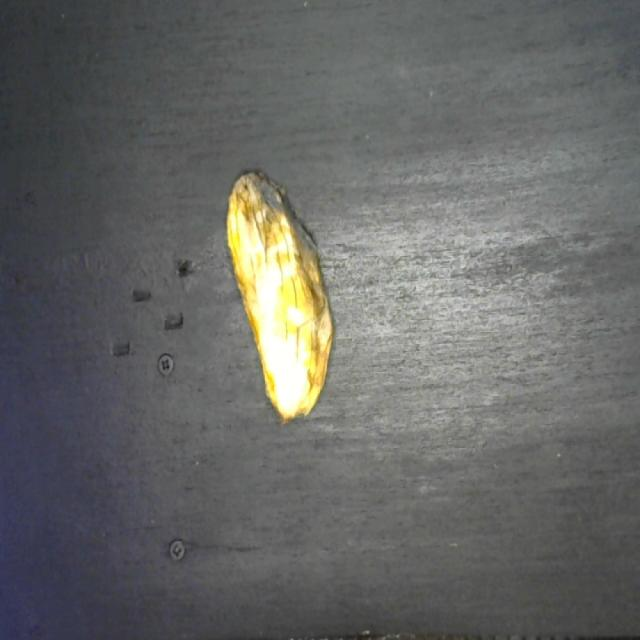biodegradable: (225, 164, 338, 428)
